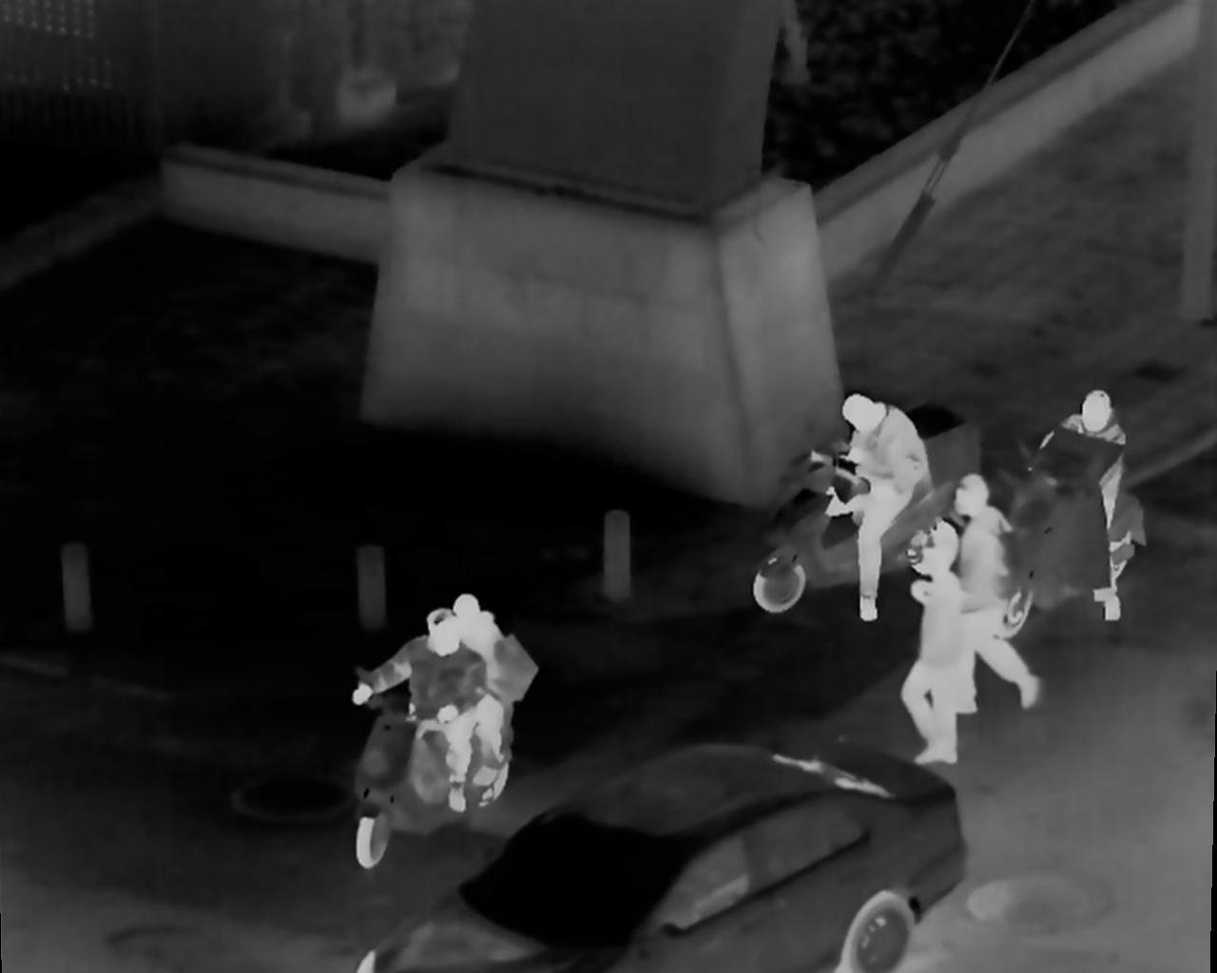person: (953, 479, 1050, 708), (834, 391, 920, 622), (893, 522, 972, 767), (439, 592, 532, 777), (1060, 374, 1138, 569), (417, 609, 481, 802)
